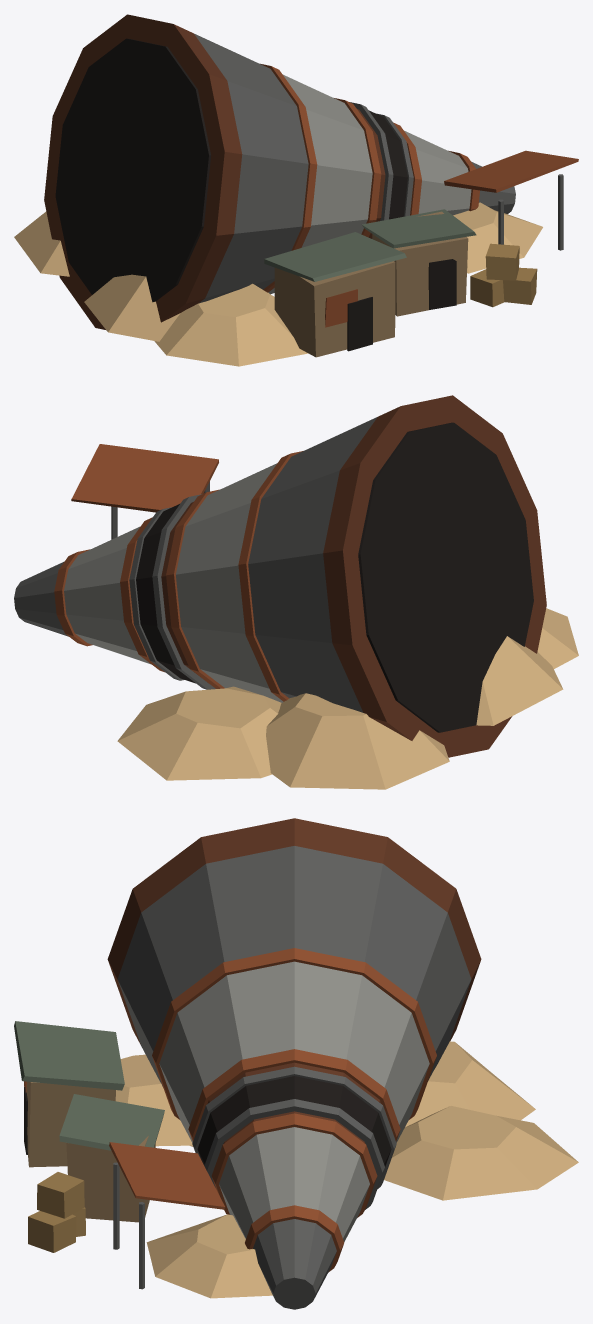
File: ship_nose.glb
The picture shows the model from 3 angles, top to bottom: view 1: azimuth 30°, elevation 25°; view 2: azimuth 150°, elevation 25°; view 3: azimuth 270°, elevation 25°; orthographic projection. The views are drawn at different scales.
Parts seen in each view (by area): view 1: ship_nose; view 2: ship_nose; view 3: ship_nose.
Boxes of the visible parts, <box> form: ship_nose: <box>14,14,578,366</box>; ship_nose: <box>14,395,578,789</box>; ship_nose: <box>14,818,578,1309</box>.
Size of the model in its own units: 13.71 by 8.46 by 13.3.
